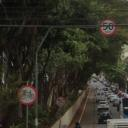speed_limit_50: (100, 19, 116, 36), (56, 96, 66, 108)
